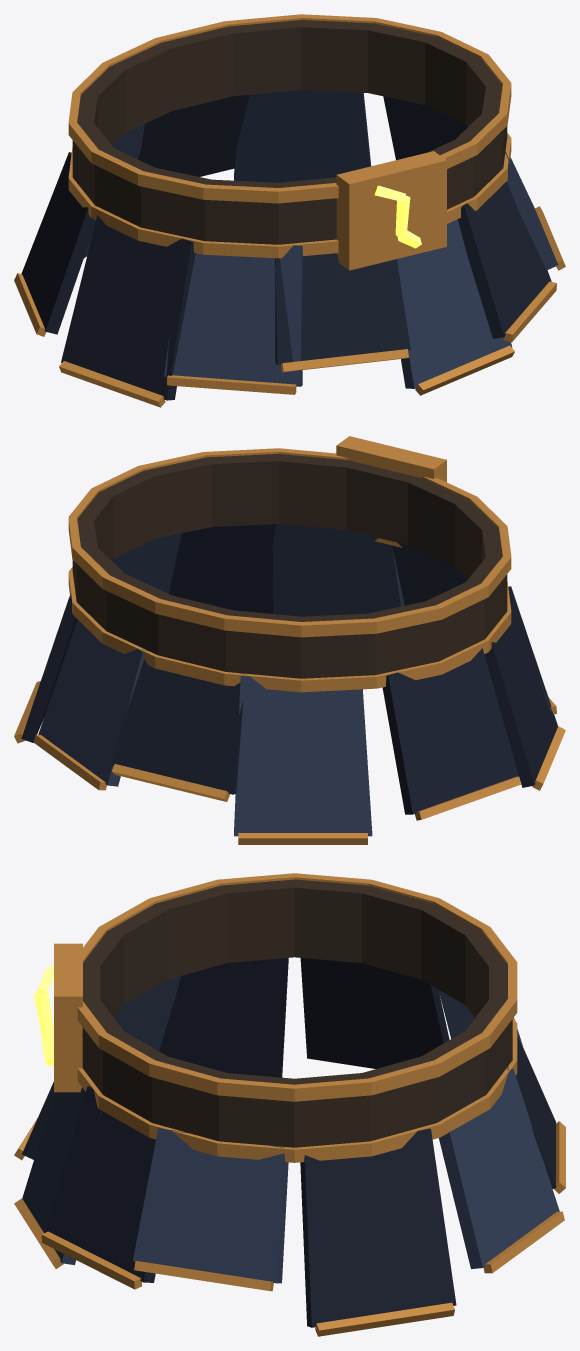
Rendered from storm_titan_belt.glb.
The picture shows the model from 3 angles, top to bottom: view 1: azimuth 30°, elevation 25°; view 2: azimuth 150°, elevation 25°; view 3: azimuth 270°, elevation 25°; orthographic projection. The views are drawn at different scales.
Visible parts, largest first — view 1: storm_titan_belt; view 2: storm_titan_belt; view 3: storm_titan_belt.
Boxes of the visible parts, bbox=[...] form: storm_titan_belt: bbox=[14, 14, 565, 407]; storm_titan_belt: bbox=[14, 436, 565, 844]; storm_titan_belt: bbox=[14, 873, 565, 1336].
Size of the model in its own units: 1.29 by 0.5435 by 1.15.
